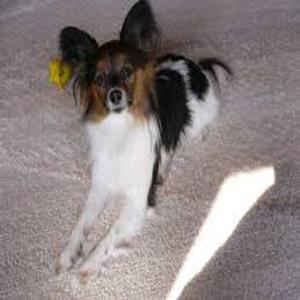yell: (52, 0, 233, 284)
